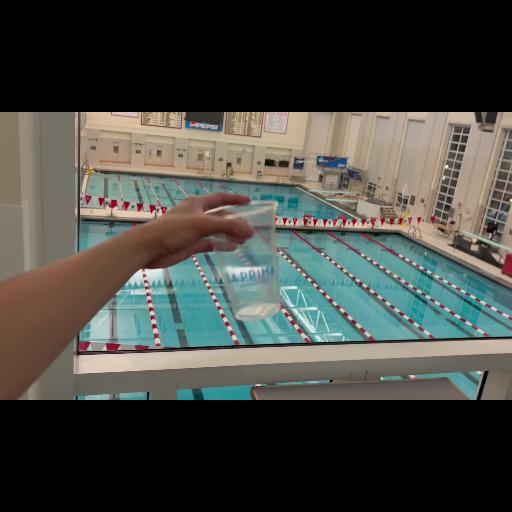lp_plastic_cup: (191, 195, 289, 327)
